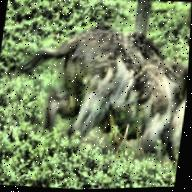boar: (20, 10, 191, 163)
